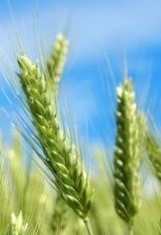Healthy Wheat: (15, 53, 97, 208)
